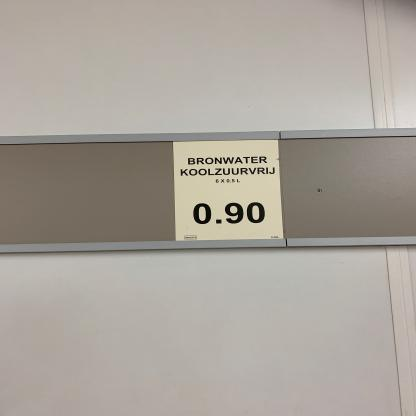prtg: (173, 140, 286, 243)
